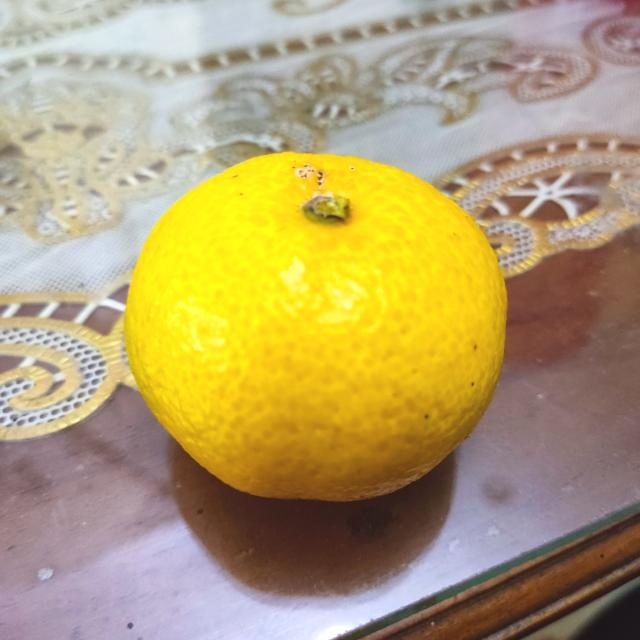agrume: (126, 148, 506, 500)
